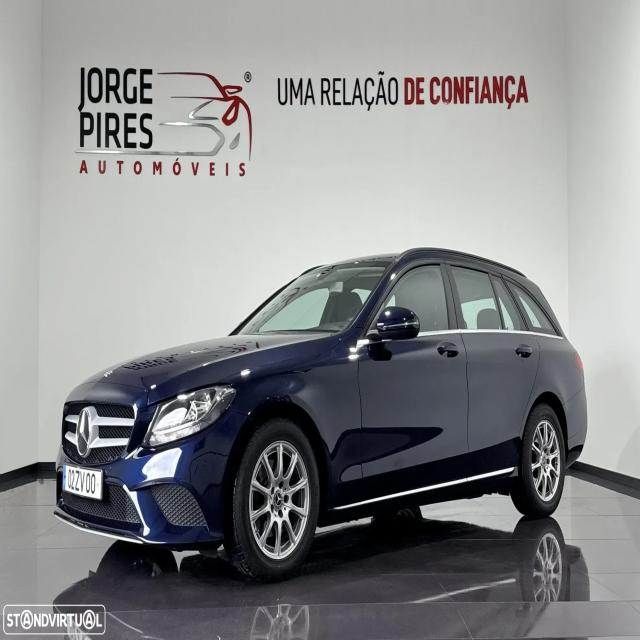portuguese-license-plates: (62, 464, 102, 500)
